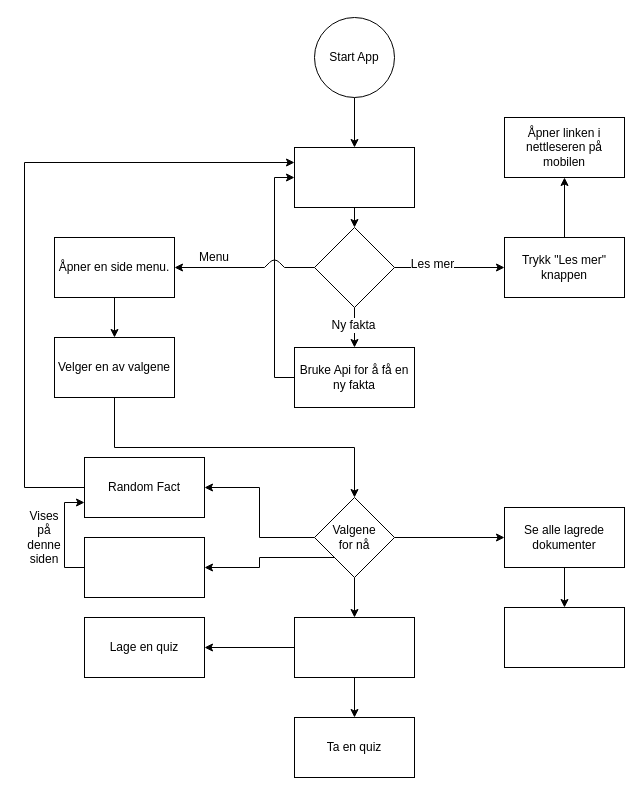
Image size: 642x795. Some labels were removed from this diagram. The shapes that lost their labels are listed below. From the top down, each one's box as (x1, y1, x2, y2) in pixels, then its label:
(294, 146, 414, 208): Load Frontpage GetARandomFact
(314, 226, 394, 308): Knapper
(84, 536, 204, 598): Søke etter fakta
(294, 616, 414, 678): Se quizzes
(504, 606, 624, 668): Lage et dokument med fakta/ se valgte dokumentet
